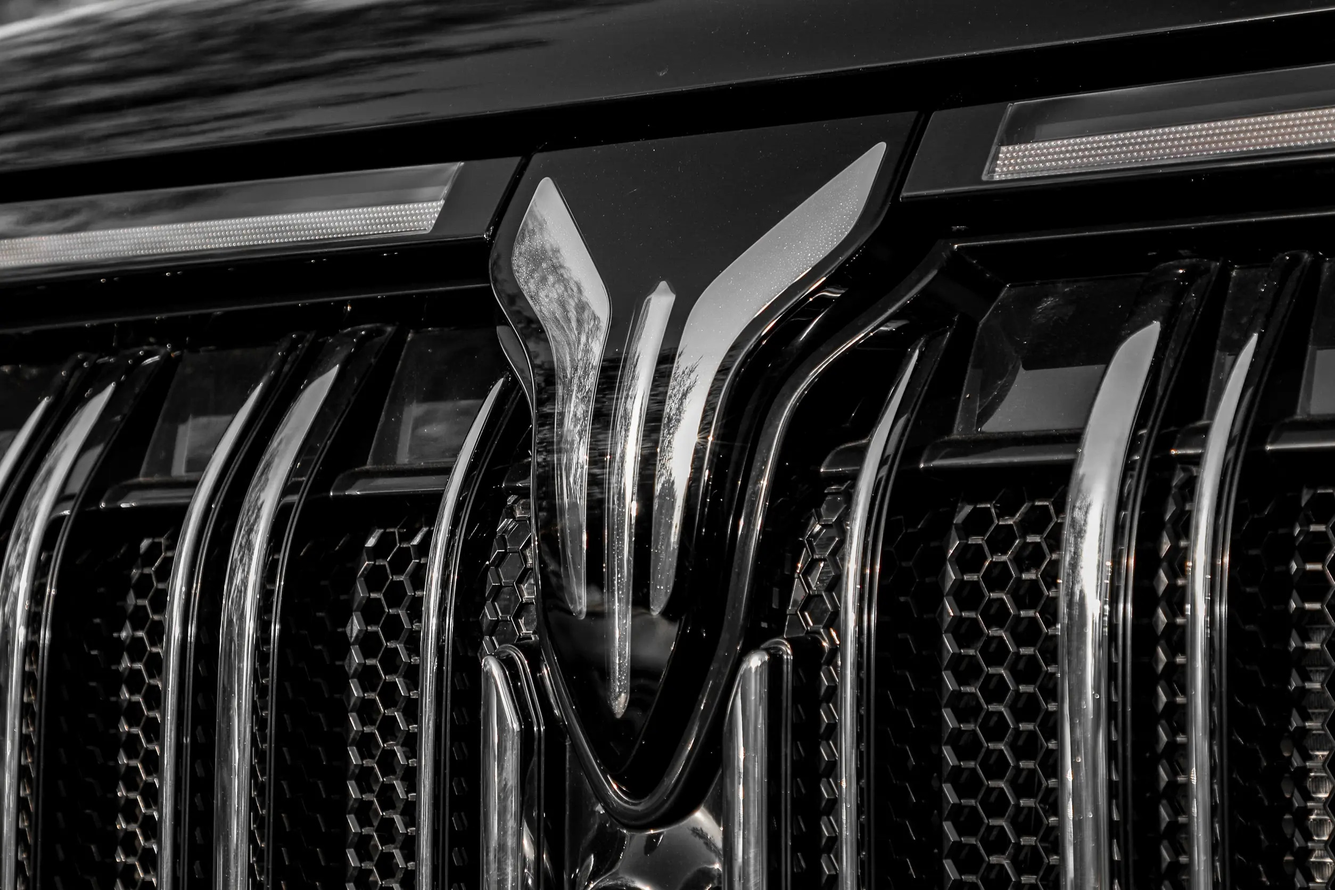VOYAH: (510, 142, 885, 718)
